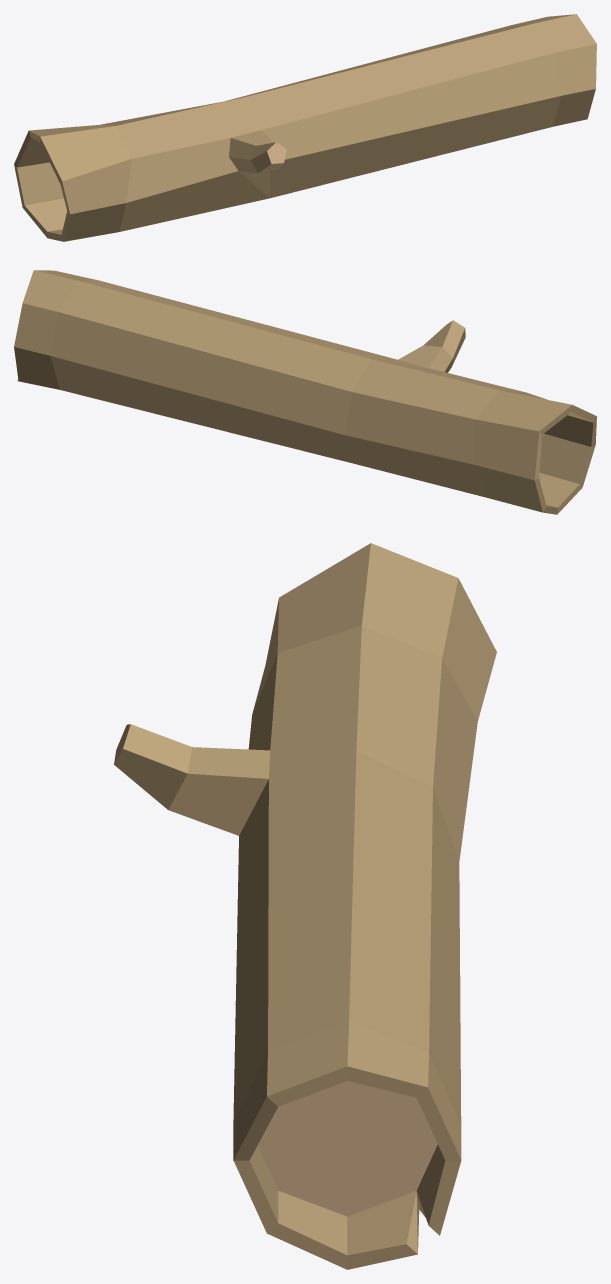
Rendered from Acacia_Log_08.fbx.
The picture shows the model from 3 angles, top to bottom: view 1: azimuth 30°, elevation 25°; view 2: azimuth 150°, elevation 25°; view 3: azimuth 270°, elevation 25°; orthographic projection. The views are drawn at different scales.
Visible parts, largest first — view 1: Acacia_Log_08; view 2: Acacia_Log_08; view 3: Acacia_Log_08.
Boxes of the visible parts, bbox=[...] form: Acacia_Log_08: bbox=[14, 14, 596, 241]; Acacia_Log_08: bbox=[14, 270, 596, 514]; Acacia_Log_08: bbox=[114, 543, 496, 1269].
Size of the model in its own units: 211 by 41.35 by 65.89.
